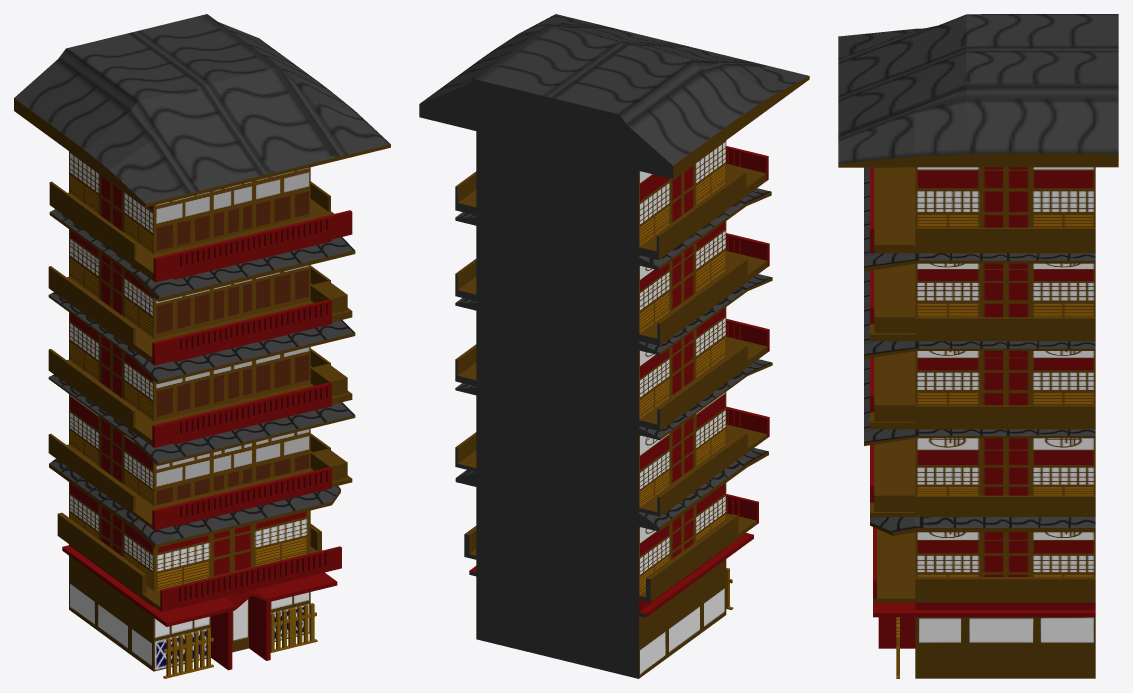
Rendered from resize_tower_0910 (3).fbx.
3 views of the same model, side by side, from view 1: azimuth 30°, elevation 25°; view 2: azimuth 150°, elevation 25°; view 3: azimuth 270°, elevation 25° (orthographic). The views are drawn at different scales.
Visible parts, largest first — view 1: pasted__pCube3; view 2: pasted__pCube3; view 3: pasted__pCube3.
Part boxes in pixels (left/top/right/bottom): pasted__pCube3: left=14, top=14, right=390, bottom=678; pasted__pCube3: left=419, top=14, right=809, bottom=678; pasted__pCube3: left=838, top=14, right=1118, bottom=678.
Bounding box in the file's own units: 1312 × 2827 × 1221.
